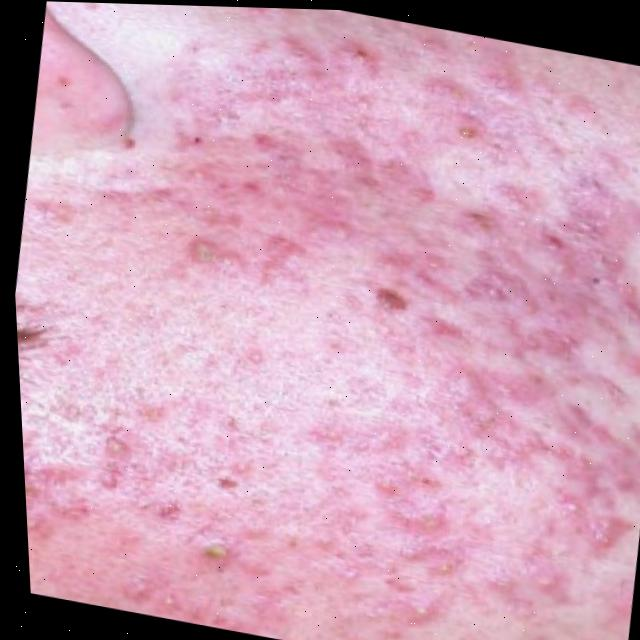Acne: (57, 2, 640, 640)
